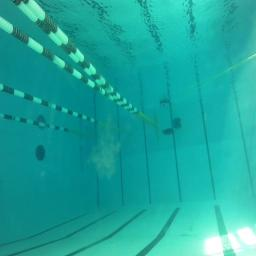Full: (163, 128, 174, 136), (174, 123, 182, 129)
